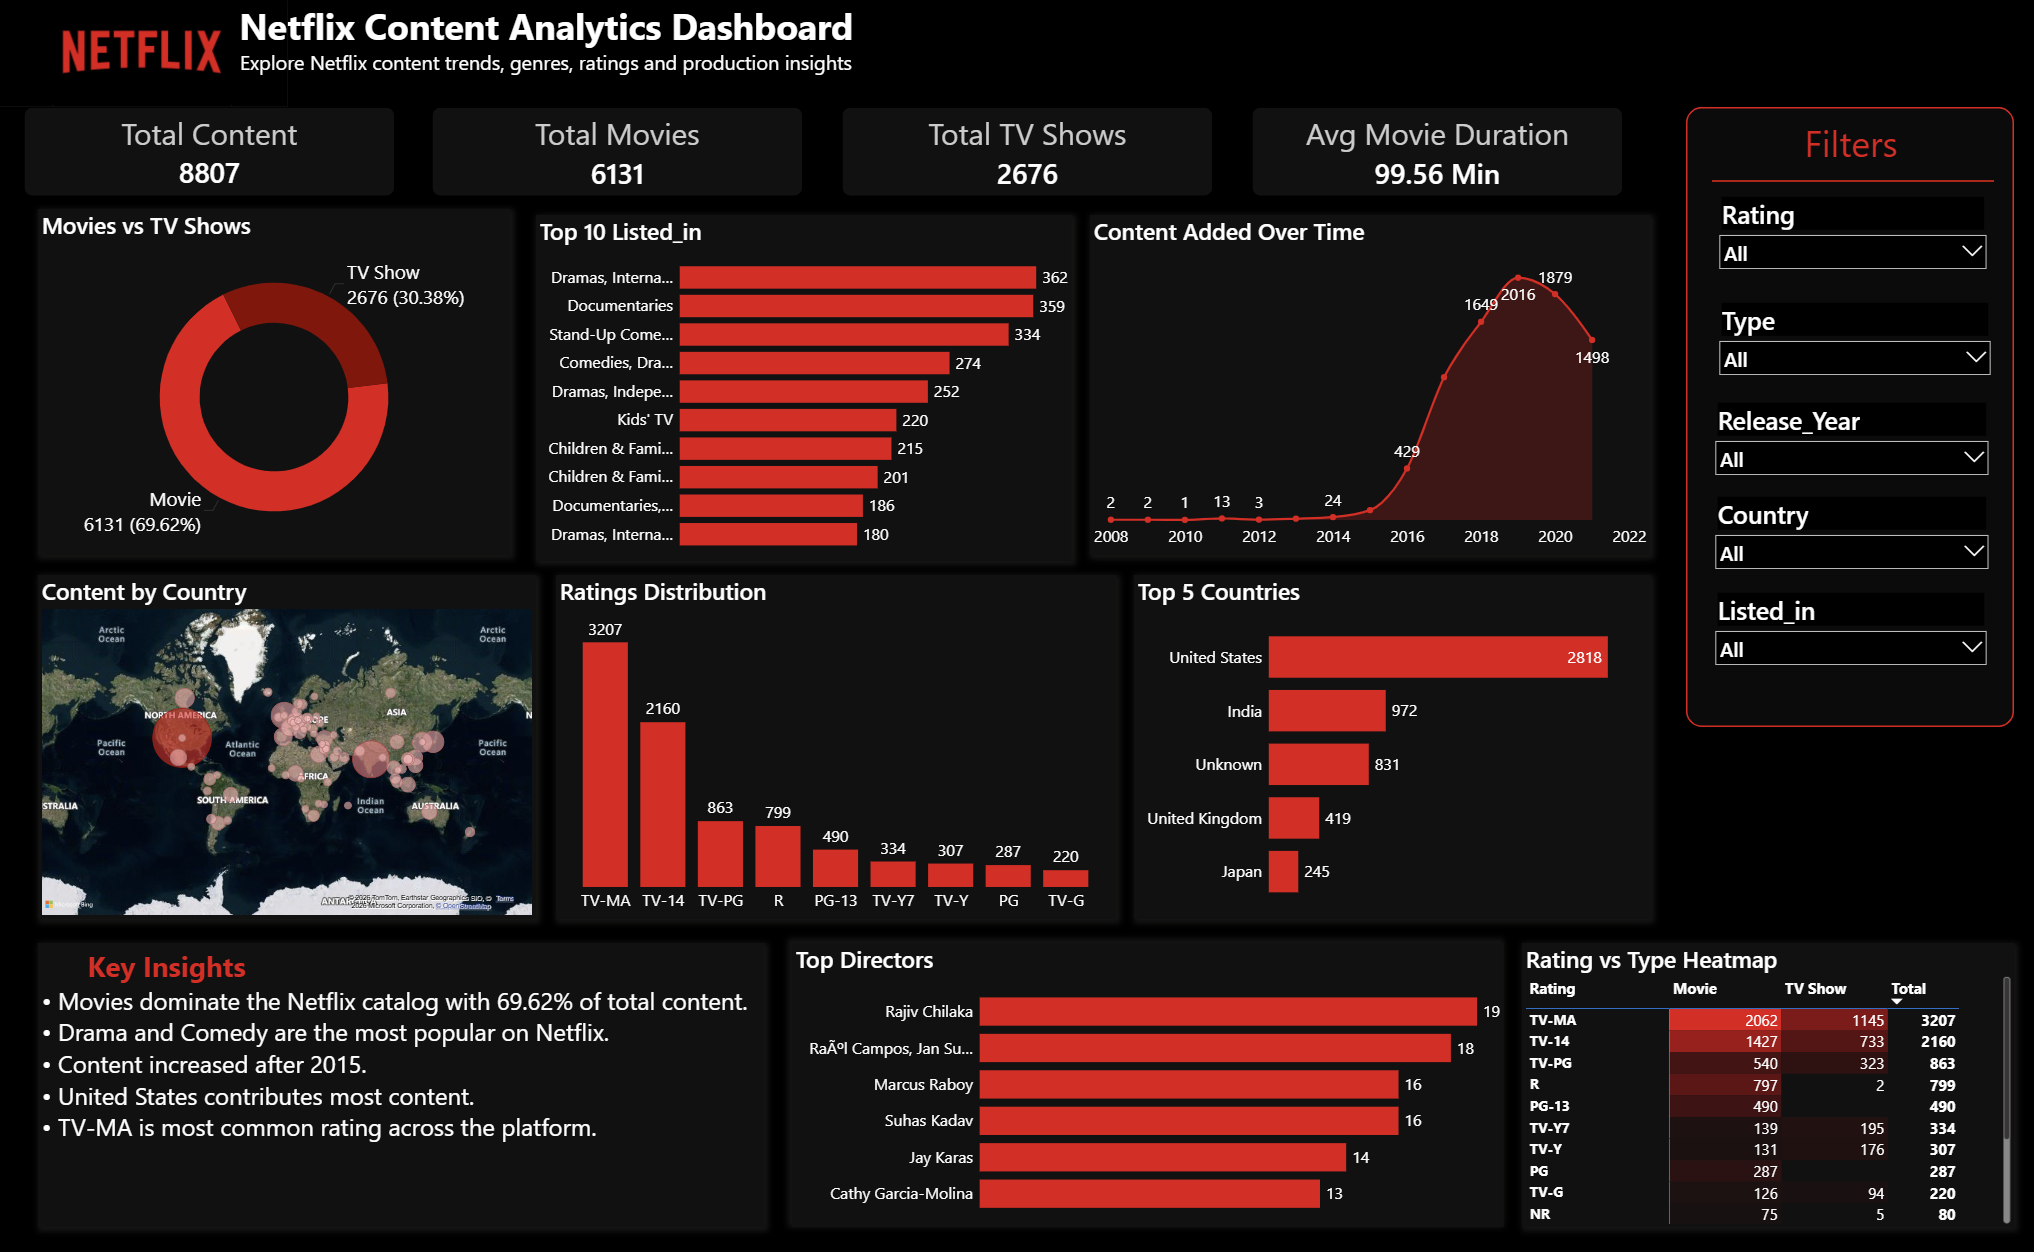

The dashboard page shown, as its layout file describes it:
{"tool":"powerbi","page":{"name":"Page 1","canvas":[2750,1700],"ordinal":0},"visuals":[{"type":"textbox","box":[0,0,2750.1,131.6],"z":0},{"type":"image","box":[0,0,392.1,147.7],"z":1000},{"type":"cardVisual","fields":{"Data":["Measure Table (2).Total Content"]},"box":[20.8,131.9,530,152.7],"z":2000},{"type":"cardVisual","fields":{"Data":["Measure Table (2).Total Movies"]},"box":[570,131.9,530,152.7],"z":3000},{"type":"cardVisual","fields":{"Data":["Measure Table (2).Total TV Shows"]},"box":[1120,131.9,530,152.7],"z":4000},{"type":"cardVisual","fields":{"Data":["Measure Table (2).AVG Movie Duration"]},"box":[1670,131.9,530,152.7],"z":5000},{"type":"donutChart","title":"Movies vs TV Shows","fields":{"Category":["netflix_cleaned_data.type"],"Y":["CountNonNull(netflix_cleaned_data.show_id)"]},"box":[56.4,284.7,633.8,464.6],"z":6000},{"type":"clusteredBarChart","title":"Top 10 Listed_in","fields":{"Category":["netflix_cleaned_data.listed_in"],"Y":["CountNonNull(netflix_cleaned_data.show_id)"]},"box":[725.1,292.7,719.7,464.6],"z":7000},{"type":"lineChart","title":"Content Added Over Time","fields":{"Category":["netflix_cleaned_data.Year_added"],"Y":["CountNonNull(netflix_cleaned_data.show_id)"]},"box":[1469,292.7,752,456.6],"z":8000},{"type":"map","title":"Content by Country","fields":{"Size":["CountNonNull(netflix_cleaned_data.show_id)"],"Category":["netflix_cleaned_data.country"]},"box":[56.4,776.1,668.7,461.9],"z":9000},{"type":"columnChart","title":"      Ratings Distribution","fields":{"Category":["netflix_cleaned_data.rating"],"Y":["CountNonNull(netflix_cleaned_data.show_id)"]},"box":[752,776.1,752,461.9],"z":10000},{"type":"clusteredBarChart","title":"Top 5 Countries","fields":{"Category":["netflix_cleaned_data.country"],"Y":["CountNonNull(netflix_cleaned_data.show_id)"]},"box":[1528.1,776.1,692.9,461.9],"z":11000},{"type":"shape","box":[2269.4,147.7,440.4,832.5],"z":12000},{"type":"textbox","box":[2290.8,158.5,400.2,104.7],"z":13000},{"type":"textbox","box":[56.4,1270.3,974.9,381.4],"z":14000},{"type":"clusteredBarChart","title":"Top Directors","fields":{"Category":["netflix_cleaned_data.director"],"Y":["CountNonNull(netflix_cleaned_data.show_id)"]},"box":[1068.9,1270.3,956.1,381.4],"z":15000},{"type":"pivotTable","title":"Rating vs Type Heatmap","fields":{"Rows":["netflix_cleaned_data.rating"],"Columns":["netflix_cleaned_data.type"],"Values":["CountNonNull(netflix_cleaned_data.show_id)"]},"box":[2049.1,1270.3,660.7,381.4],"z":16000},{"type":"slicer","fields":{"Values":["netflix_cleaned_data.rating"]},"box":[2304.3,263.2,378.7,110.1],"z":17000},{"type":"slicer","fields":{"Values":["netflix_cleaned_data.type"]},"box":[2304.3,405.5,384,120.9],"z":18000},{"type":"slicer","fields":{"Values":["netflix_cleaned_data.release_year"]},"box":[2298.9,539.8,386.7,107.4],"z":19000},{"type":"slicer","fields":{"Values":["netflix_cleaned_data.country"]},"box":[2298.9,666,386.7,128.9],"z":20000},{"type":"slicer","fields":{"Values":["netflix_cleaned_data.listed_in"]},"box":[2298.9,794.9,384,120.9],"z":21000},{"type":"shape","box":[2304.3,231,378.7,32.2],"z":21001}]}

Visuals, with their boxes in screenshot pixels (x1, y1, x2, y2), scaled from the page's 2750x1700 canvas onto the 2034x1252 screenshot:
textbox: region(0, 0, 2033, 97)
image: region(0, 0, 290, 109)
cardVisual - Measure Table (2).Total Content: region(15, 97, 407, 210)
cardVisual - Measure Table (2).Total Movies: region(422, 97, 814, 210)
cardVisual - Measure Table (2).Total TV Shows: region(828, 97, 1220, 210)
cardVisual - Measure Table (2).AVG Movie Duration: region(1235, 97, 1627, 210)
"Movies vs TV Shows" donutChart: region(42, 210, 510, 552)
"Top 10 Listed_in" clusteredBarChart: region(536, 216, 1069, 558)
"Content Added Over Time" lineChart: region(1087, 216, 1643, 552)
"Content by Country" map: region(42, 572, 536, 912)
"      Ratings Distribution" columnChart: region(556, 572, 1112, 912)
"Top 5 Countries" clusteredBarChart: region(1130, 572, 1643, 912)
shape: region(1679, 109, 2004, 722)
textbox: region(1694, 117, 1990, 194)
textbox: region(42, 936, 763, 1216)
"Top Directors" clusteredBarChart: region(791, 936, 1498, 1216)
"Rating vs Type Heatmap" pivotTable: region(1516, 936, 2004, 1216)
slicer - netflix_cleaned_data.rating: region(1704, 194, 1984, 275)
slicer - netflix_cleaned_data.type: region(1704, 299, 1988, 388)
slicer - netflix_cleaned_data.release_year: region(1700, 398, 1986, 477)
slicer - netflix_cleaned_data.country: region(1700, 490, 1986, 585)
slicer - netflix_cleaned_data.listed_in: region(1700, 585, 1984, 674)
shape: region(1704, 170, 1984, 194)
